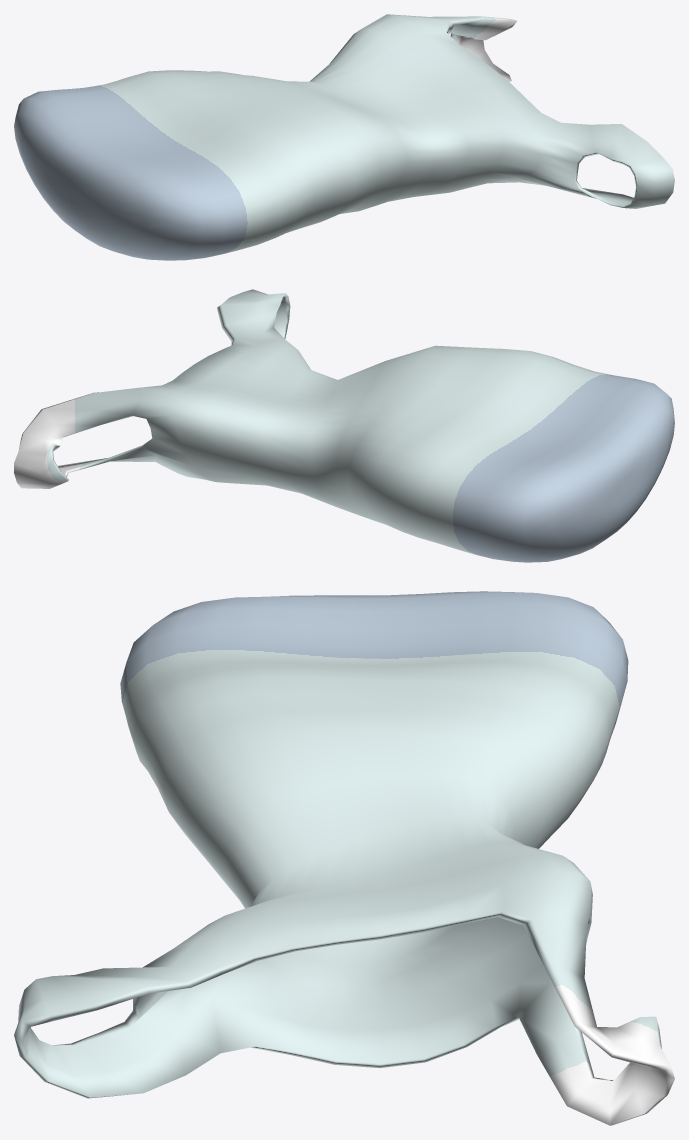
Rendered from bolsaPlastico.001.fbx.
3 views of the same model, one above another, from view 1: azimuth 30°, elevation 25°; view 2: azimuth 150°, elevation 25°; view 3: azimuth 270°, elevation 25° (orthographic). The views are drawn at different scales.
Visible parts, largest first — view 1: bolsaPlastico.001; view 2: bolsaPlastico.001; view 3: bolsaPlastico.001.
Part boxes in pixels (box(x1,y1,x2,y2)): bolsaPlastico.001: box(14, 14, 674, 260); bolsaPlastico.001: box(14, 289, 674, 562); bolsaPlastico.001: box(14, 591, 674, 1125).
Size of the model in its own units: 72.77 by 17.57 by 52.31.
